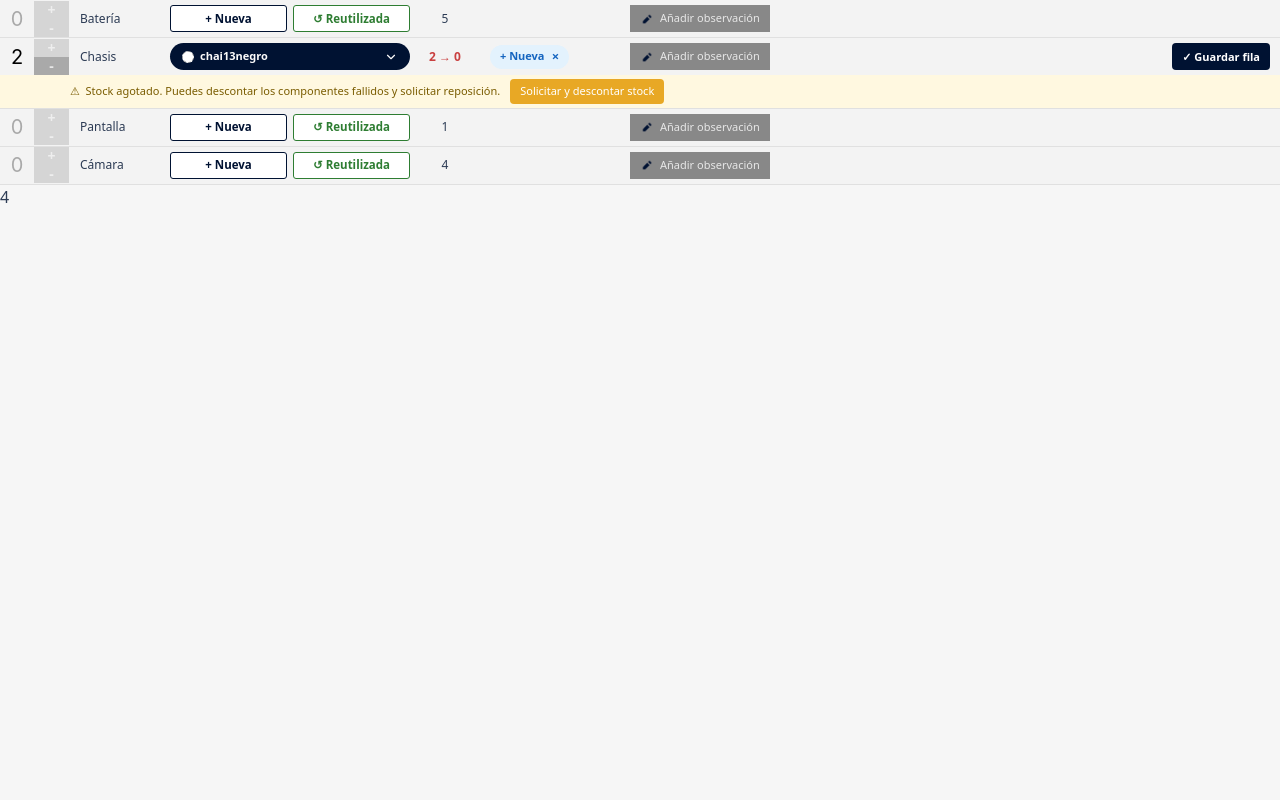
Scenario: SubFilaAgotado (ficha docs/paridad/formulario.md · Sub-fila de agotado y solicitud de pieza) › diálogo límite: "Se descontarán <N> unidades…" y "Confirmar: descontar <N> ud. de stock y solicitar" con N = stock
Click the button "Solicitar y descontar stock". click: (587, 91)
box: x1=510 y1=79 x2=664 y2=104
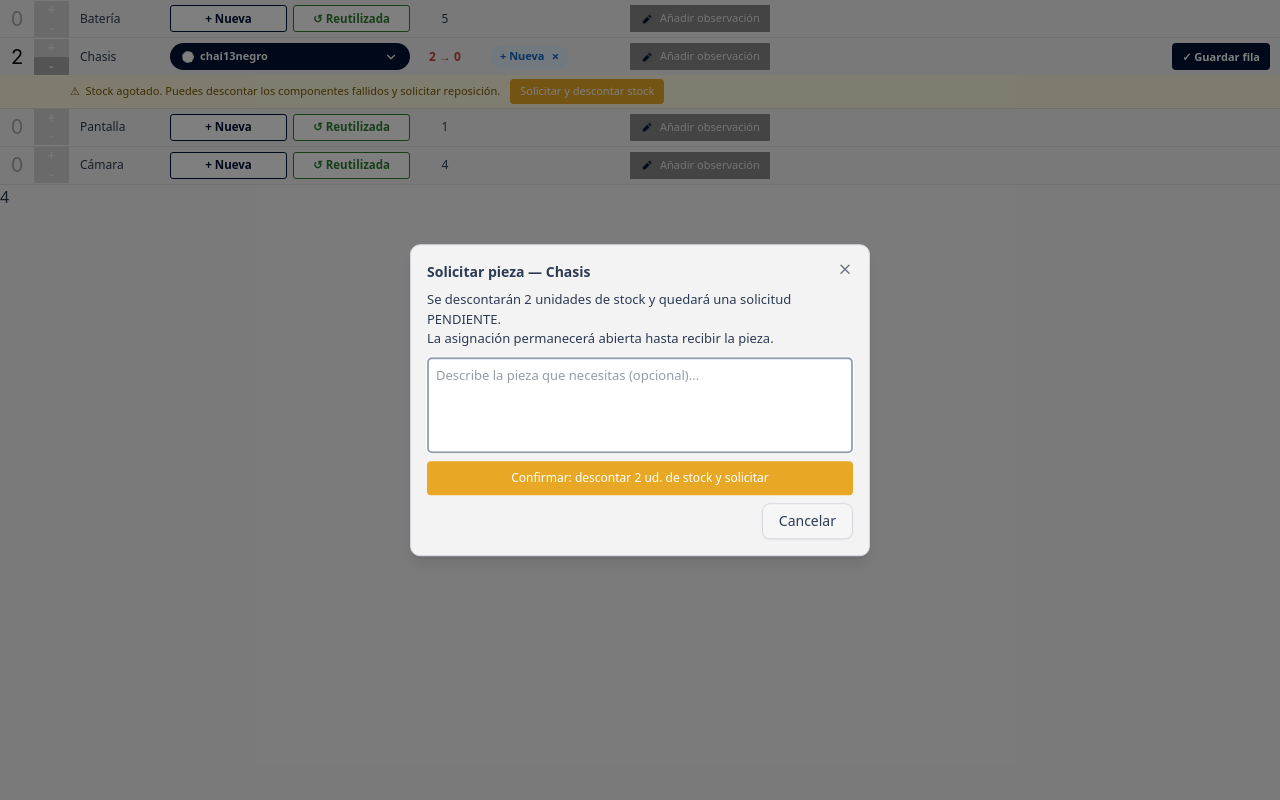
Expected: the text "Se descontarán 2 unidades de stock y quedará una solicitud PENDIENTE." is shown, x1=427 y1=290 x2=853 y2=329
Expected: the text "La asignación permanecerá abierta hasta recibir la pieza." is shown, x1=427 y1=329 x2=774 y2=347
Expected: the button "Confirmar: descontar 2 ud. de stock y solicitar" is shown, x1=427 y1=461 x2=853 y2=495
